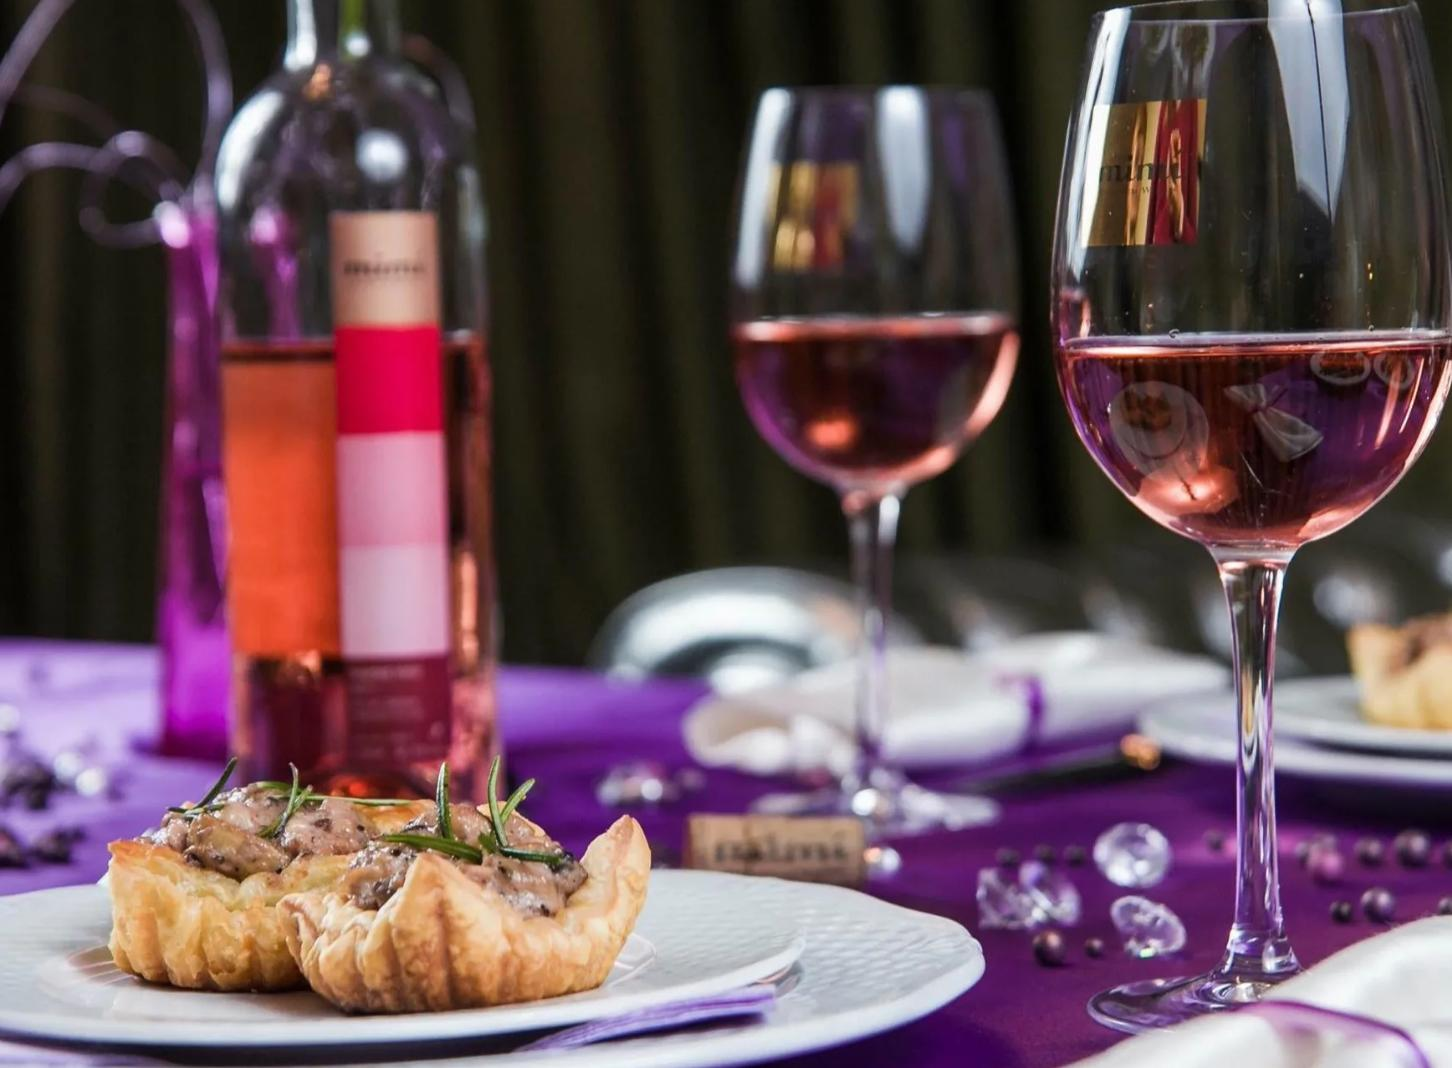wine bottle: (213, 0, 510, 804)
wine label: (330, 210, 451, 770)
